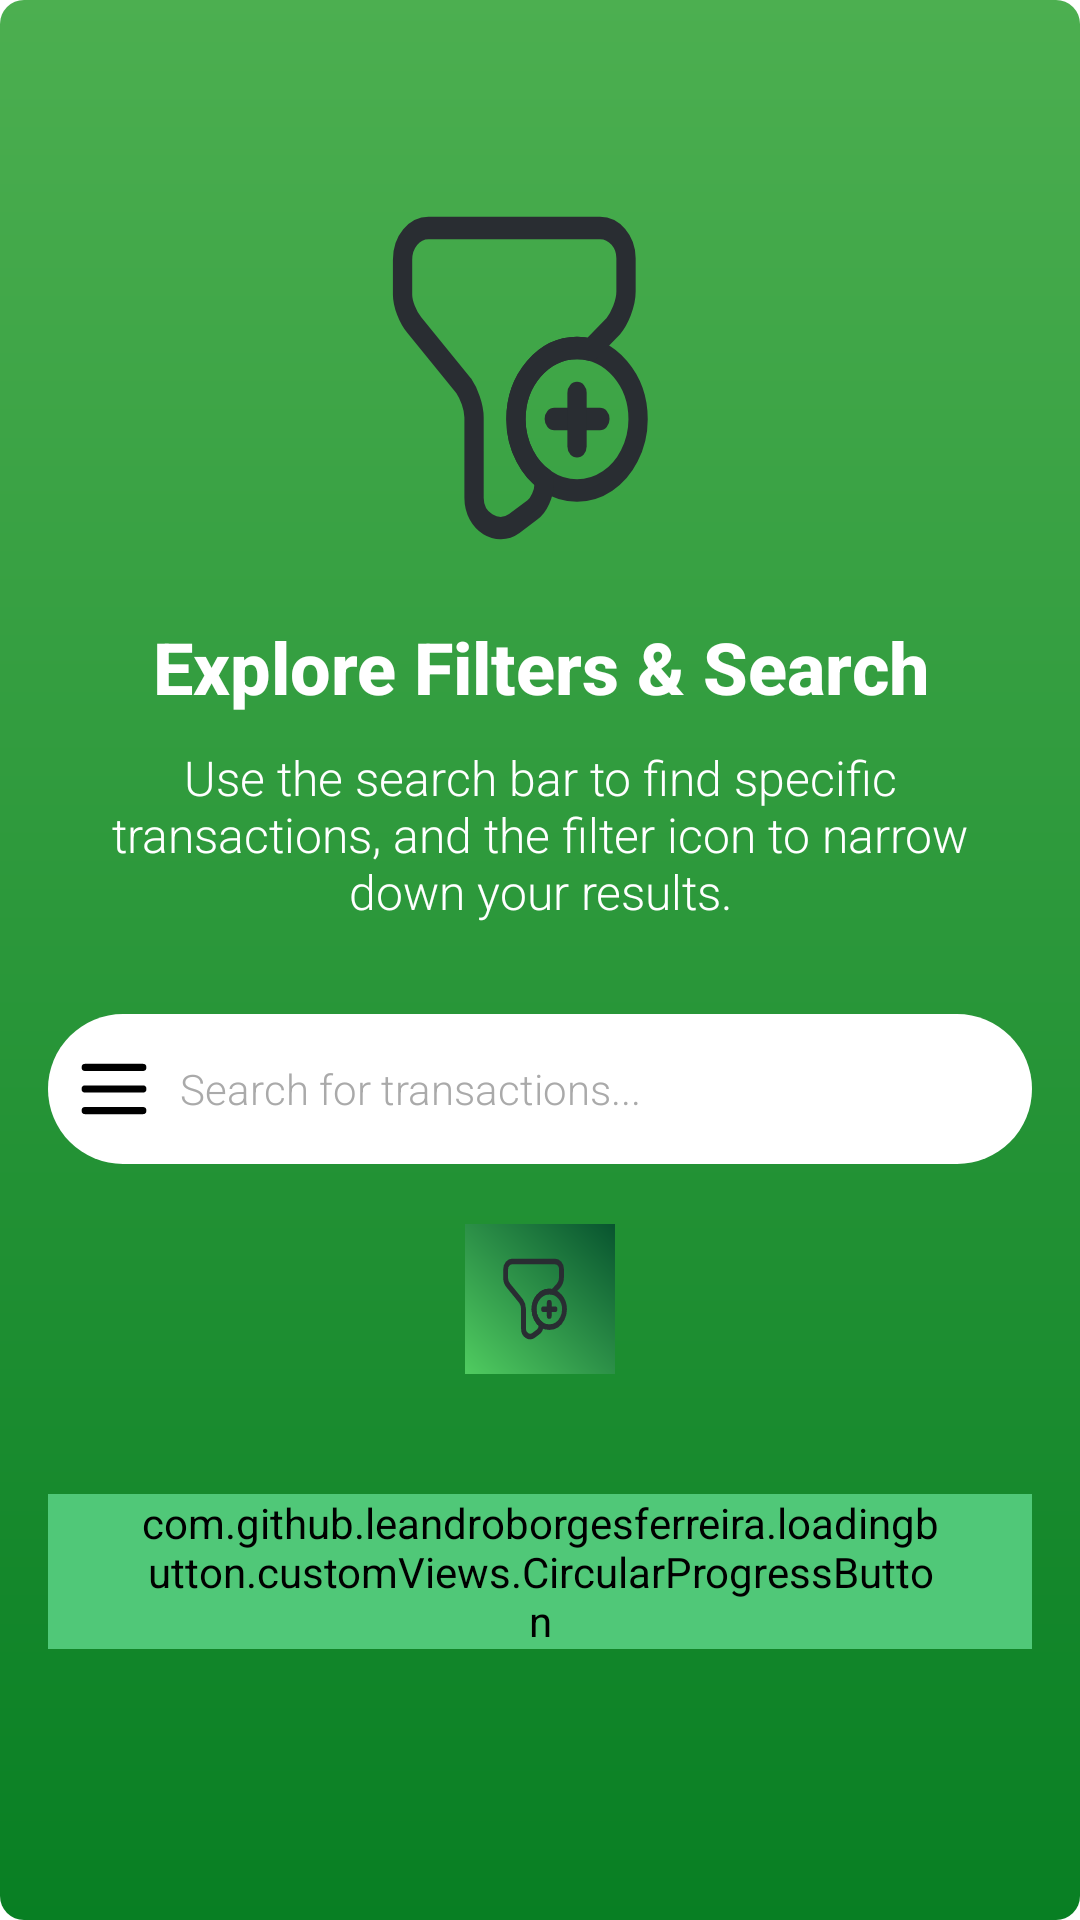

Icon bounding boxes for this 1080*1920 phone screenshot, format detection(x1, y1, x2, y2):
Filter Icon: detection(465, 1224, 615, 1374)
